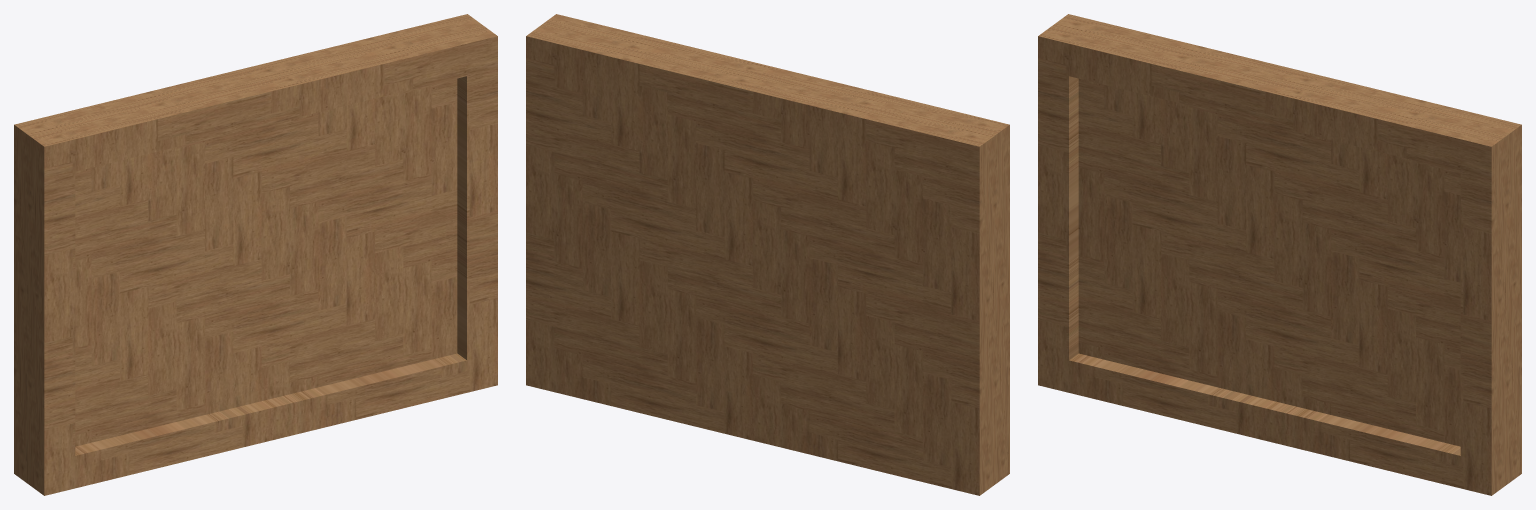
The model's file is picture.glb.
3 renders of one model, left to right at view 1: azimuth 30°, elevation 25°; view 2: azimuth 150°, elevation 25°; view 3: azimuth 330°, elevation 25°, orthographic.
Visible parts, largest first — view 1: picture; view 2: picture; view 3: picture.
Part boxes in pixels (bbox=[...]): picture: bbox=[14, 14, 497, 495]; picture: bbox=[526, 14, 1009, 495]; picture: bbox=[1038, 14, 1521, 495].
Size of the model in its own units: 0.6785 by 0.4991 by 0.0785.
1 material, 1 textured.
